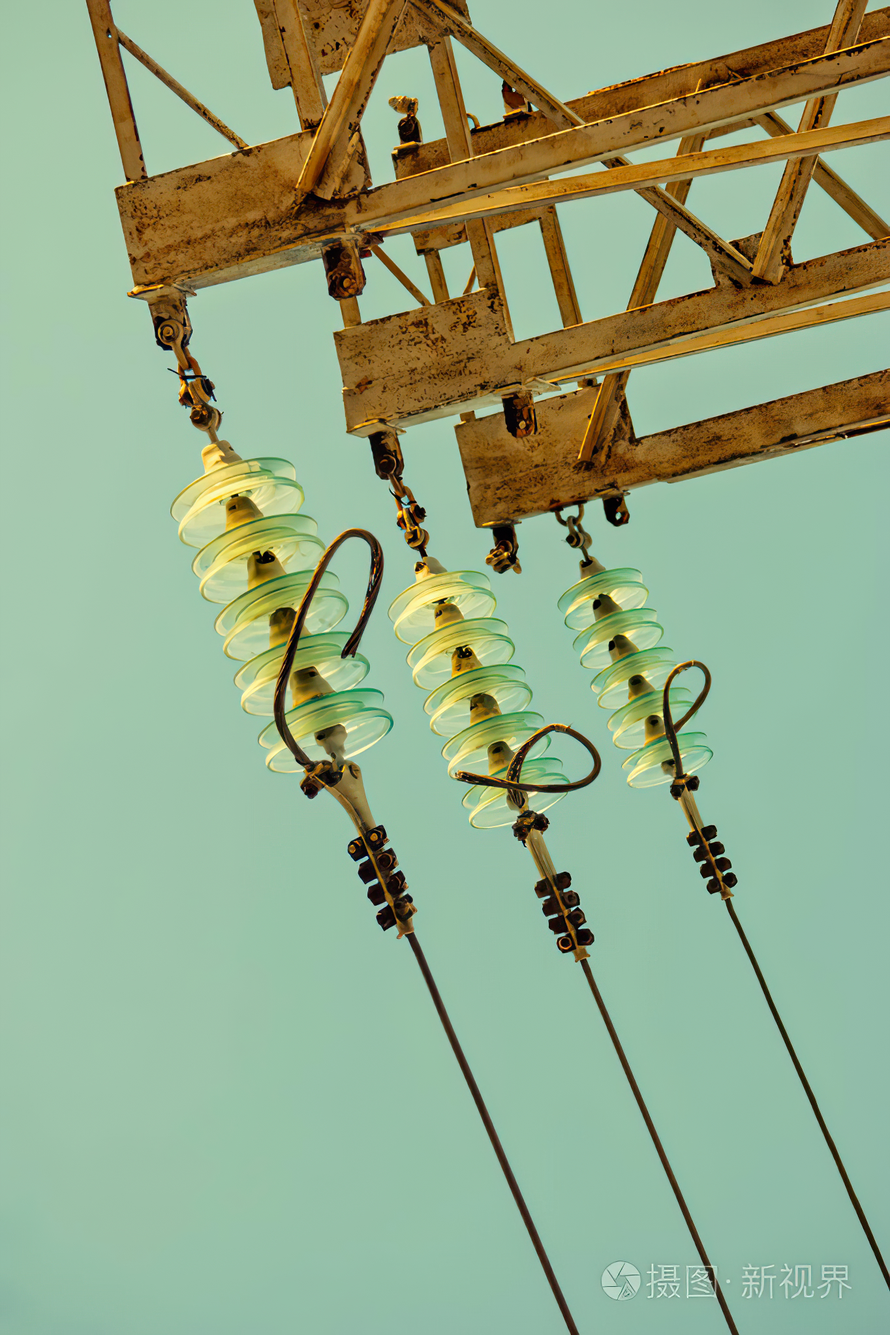insulator: (166, 453, 393, 775), (391, 569, 570, 830), (555, 571, 711, 791)
